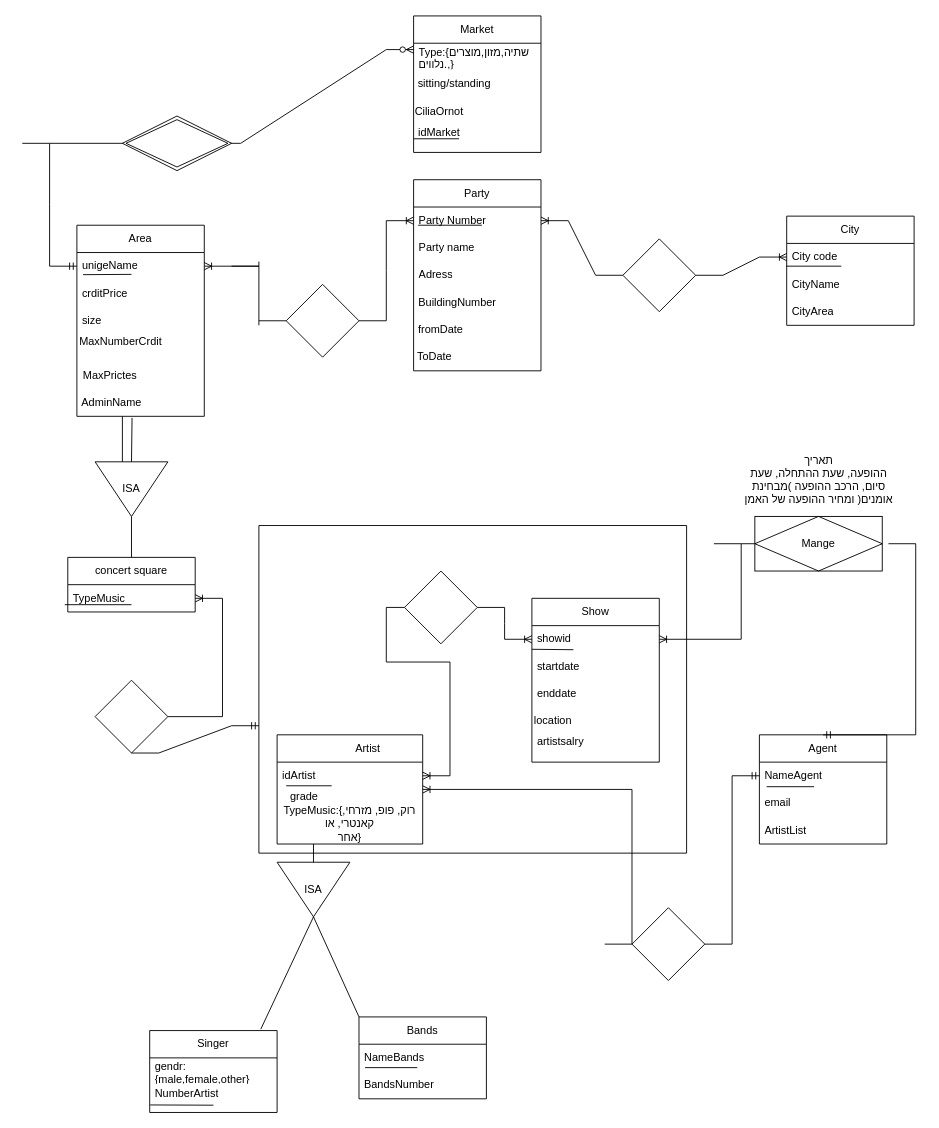
Some shapes in this 939 by 1128 pixel diagram are drawn without their labels. The centre of each missing label's shape, as x and y in pixels:
"available" goes at point 131,716.
"belong to" goes at point 668,944.
"contain" goes at point 440,607.
"happen" goes at point 322,320.
"include" goes at point 176,143.
"PartyinCity" goes at point 659,275.
